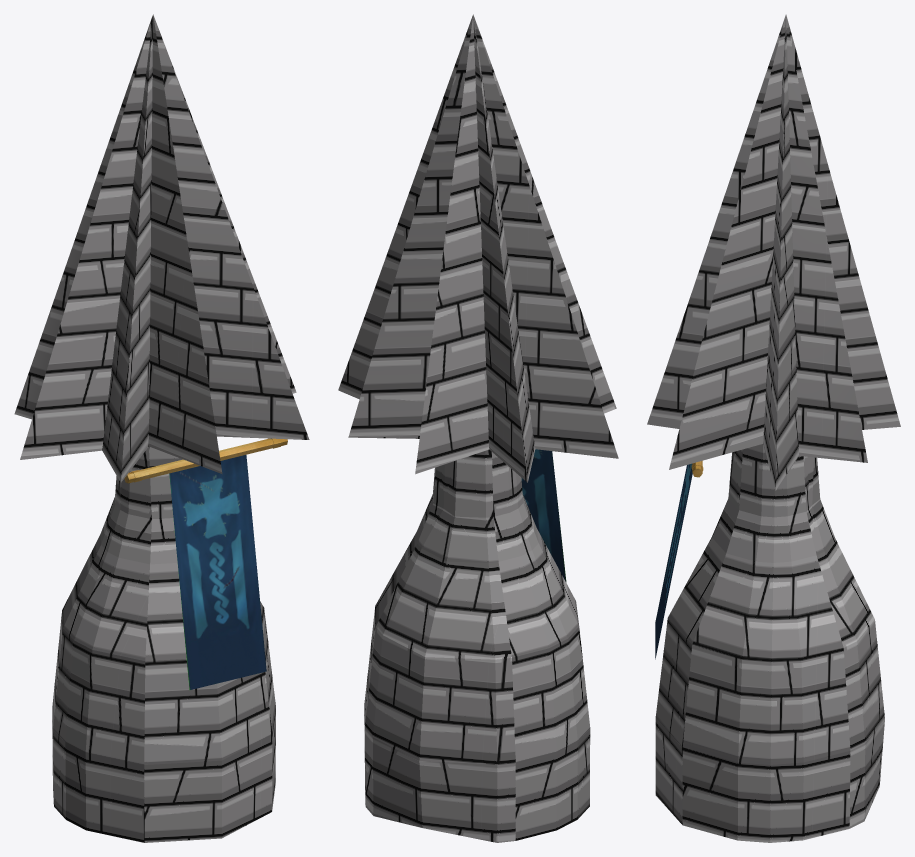
Rendered from ArcherTower.fbx.
3 views of the same model, side by side, from view 1: azimuth 30°, elevation 25°; view 2: azimuth 150°, elevation 25°; view 3: azimuth 270°, elevation 25° (orthographic).
Parts seen in each view (by area): view 1: Archer, Cylinder006; view 2: Archer, Cylinder006; view 3: Archer, Cylinder006.
Boxes of the visible parts, x1,y1,x2,y2 form: Archer: [14, 14, 309, 842]; Cylinder006: [124, 438, 287, 689]; Archer: [338, 14, 618, 842]; Cylinder006: [521, 449, 566, 582]; Archer: [647, 14, 900, 842]; Cylinder006: [655, 460, 703, 659].
Bounding box in the file's own units: 282 × 757 × 224.
2 materials, 2 textured.
